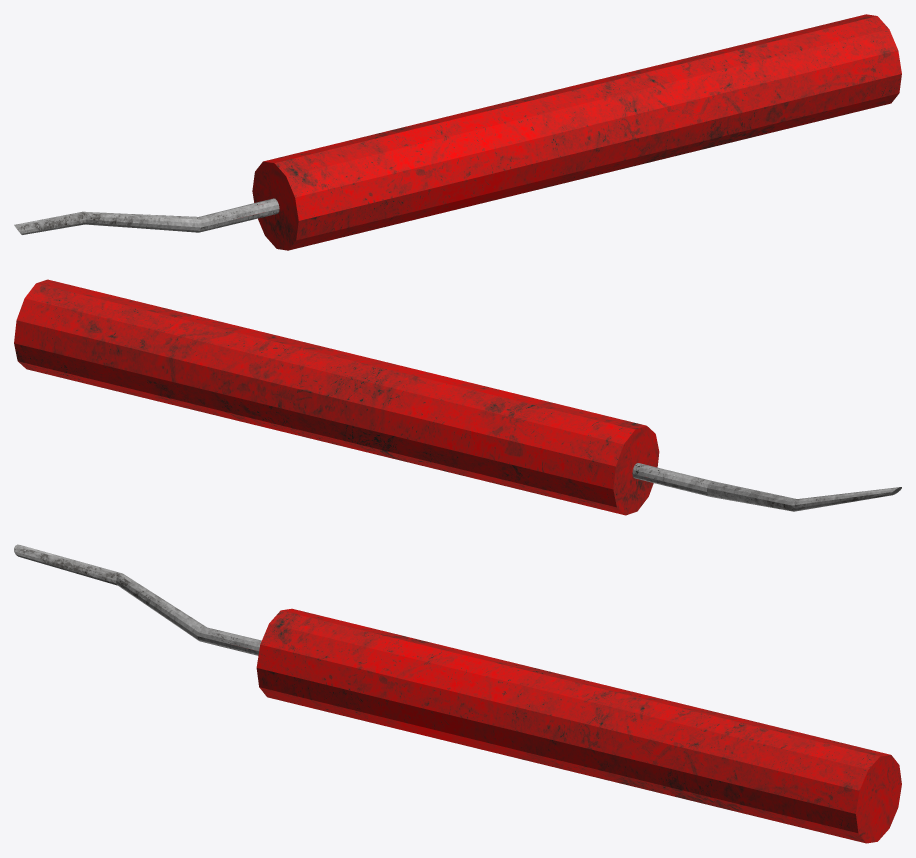
File: SM_Dynamite.fbx
3 renders of one model, top to bottom at view 1: azimuth 30°, elevation 25°; view 2: azimuth 150°, elevation 25°; view 3: azimuth 330°, elevation 25°, orthographic.
Visible parts, largest first — view 1: Cylinder; view 2: Cylinder; view 3: Cylinder.
Part boxes in pixels (x1,y1,x2,y2): Cylinder: [14, 14, 901, 250]; Cylinder: [14, 279, 901, 515]; Cylinder: [14, 544, 901, 843].
Size of the model in its own units: 41.49 by 4.02 by 3.85.
